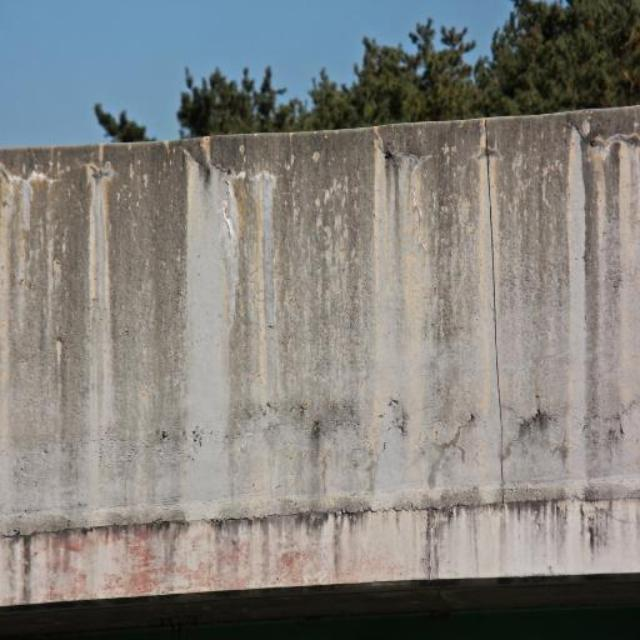D01: (186, 150, 241, 492), (86, 162, 113, 513), (478, 122, 501, 485)
